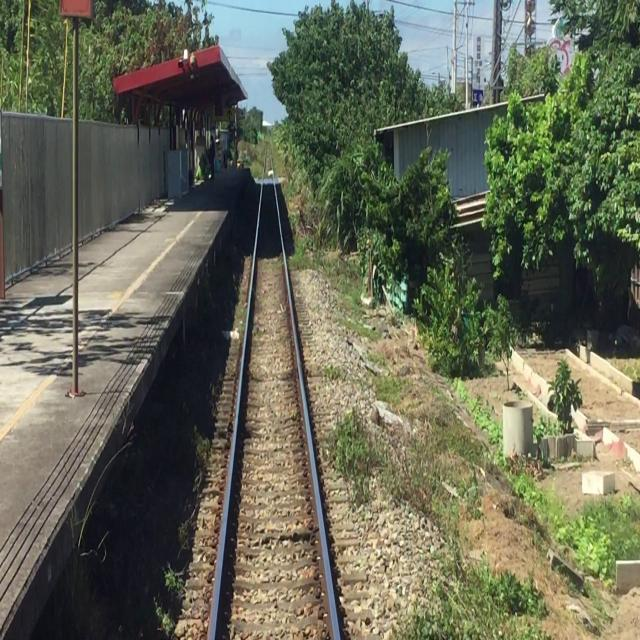rail: (167, 131, 389, 640)
